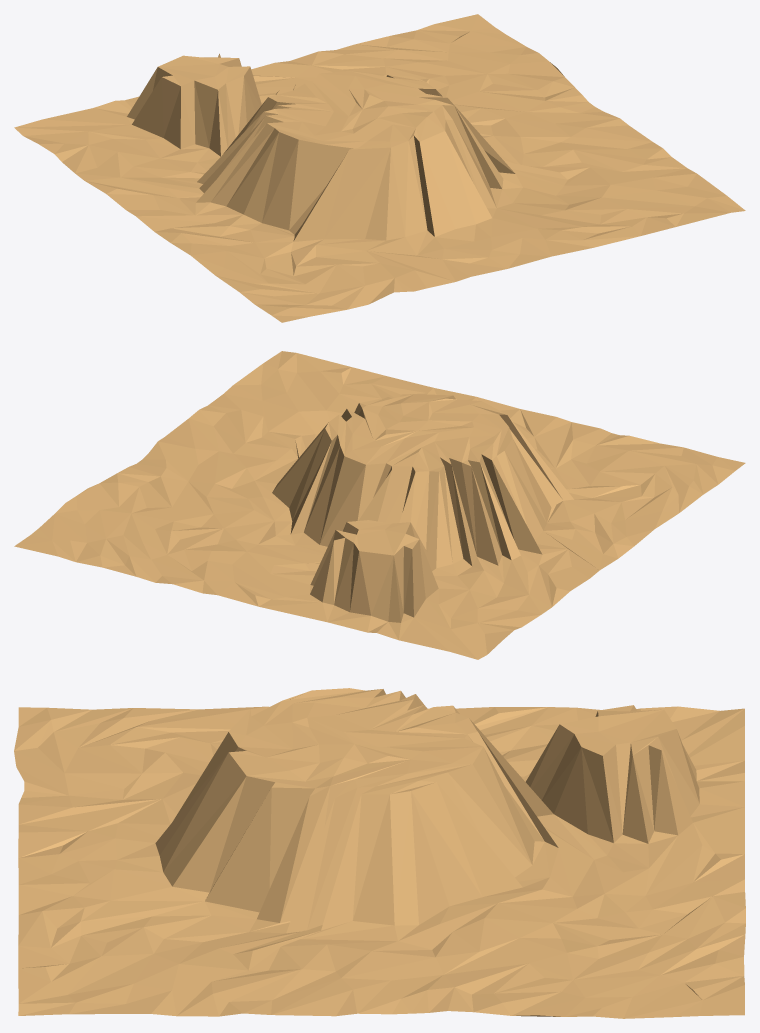
The model's file is landscape.02.fbx.
The picture shows the model from 3 angles, top to bottom: view 1: azimuth 30°, elevation 25°; view 2: azimuth 150°, elevation 25°; view 3: azimuth 270°, elevation 25°; orthographic projection. The views are drawn at different scales.
Visible parts, largest first — view 1: landscape.02; view 2: landscape.02; view 3: landscape.02.
Part boxes in pixels (x1,y1,x2,y2): landscape.02: (14, 14, 745, 322); landscape.02: (14, 351, 745, 659); landscape.02: (14, 688, 745, 1018).
Bounding box in the file's own units: 3407 × 555 × 3386.
